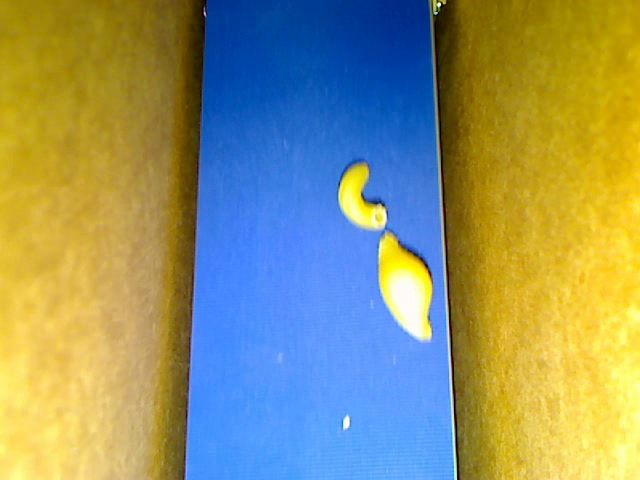elbow: (337, 161, 388, 228)
shell: (377, 230, 433, 342)
